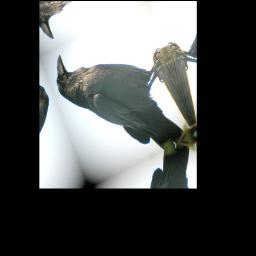Crow: (46, 10, 192, 186)
